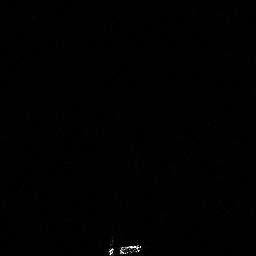ship: (104, 240, 144, 256)
